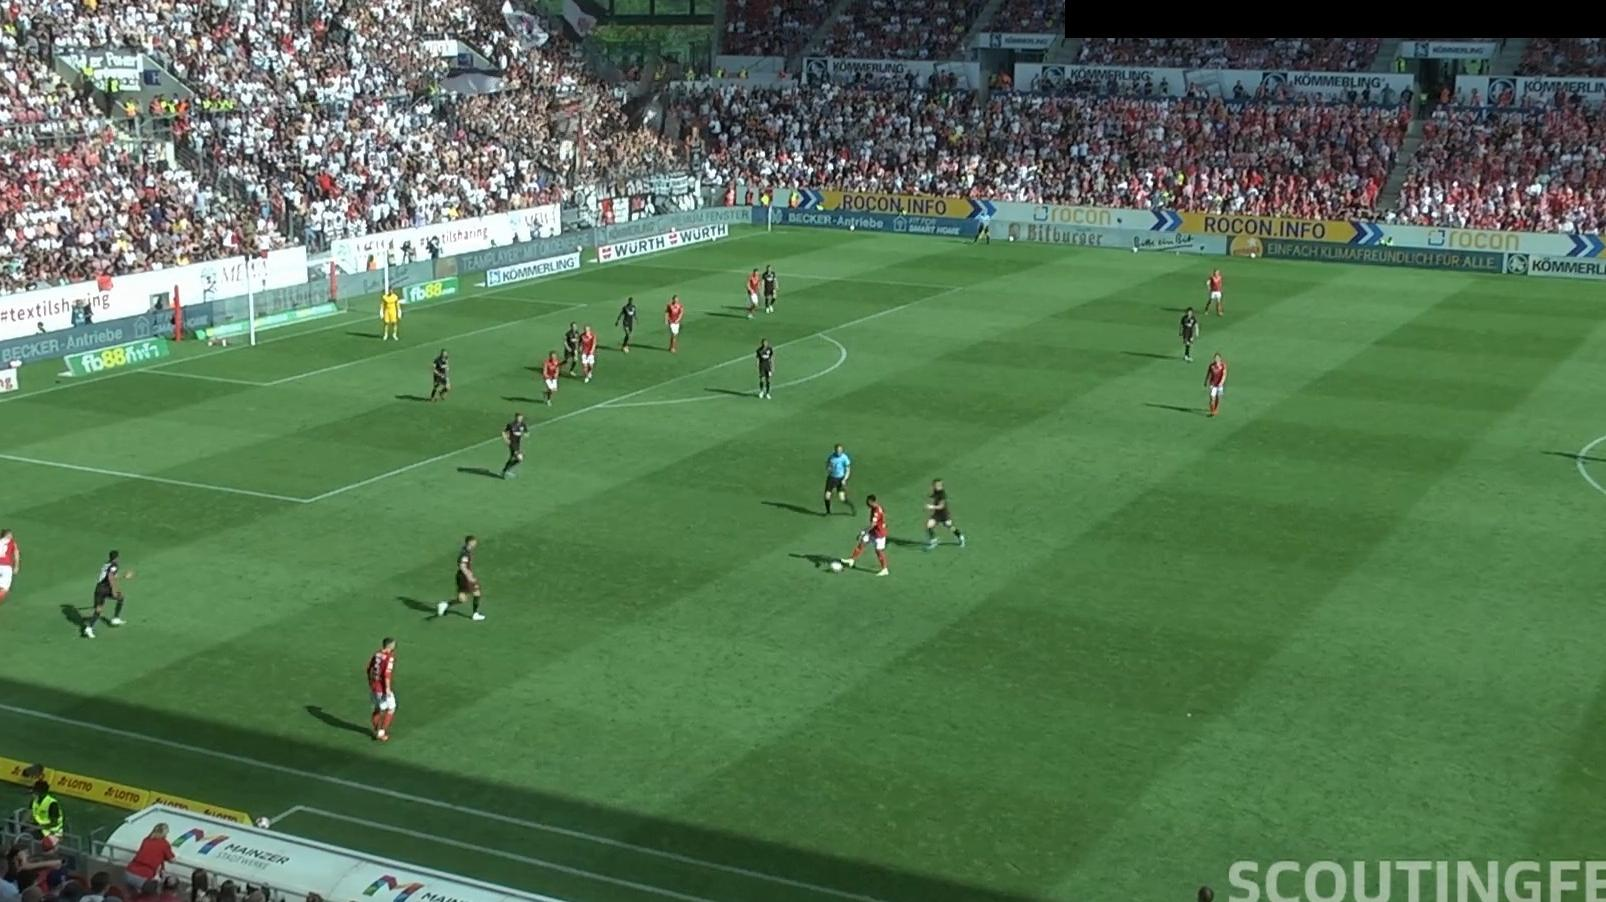ball: (828, 559, 845, 573)
